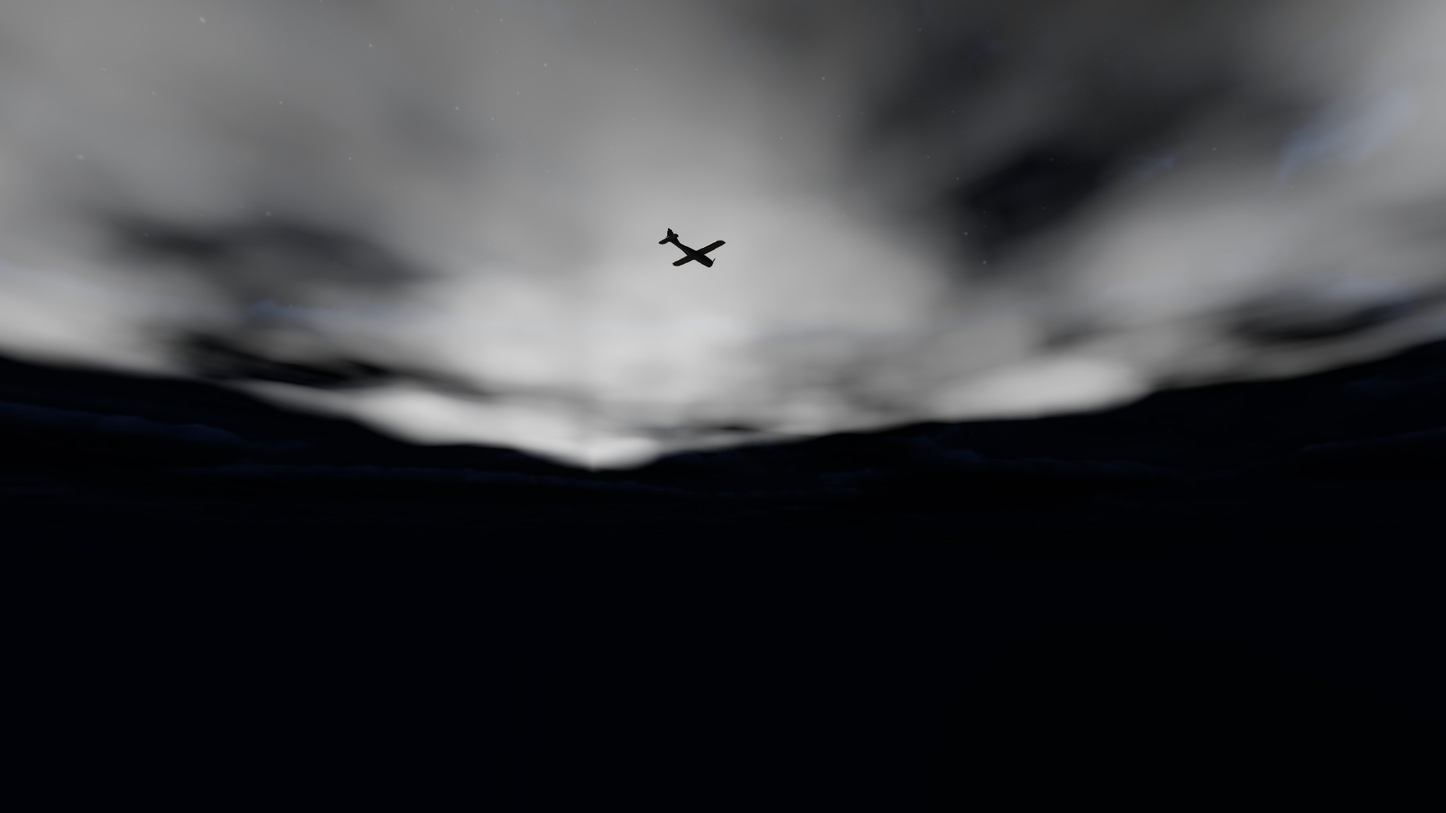drone_other: (659, 228, 726, 268)
